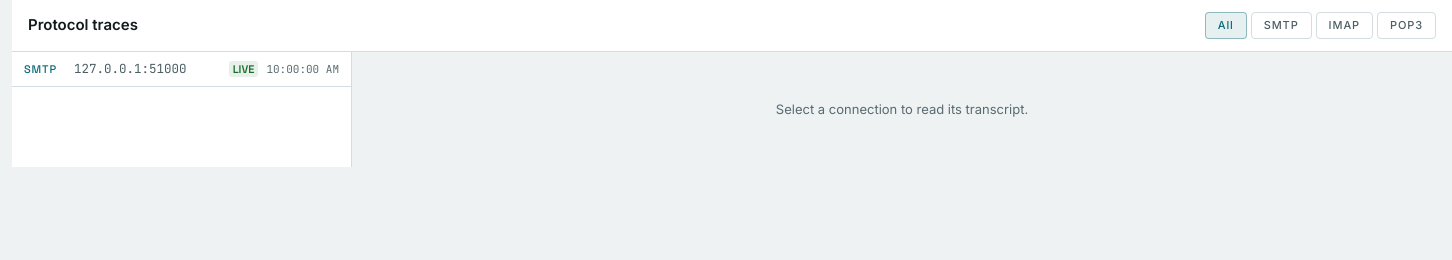
Test case: an open connection (Phase 7 Pass B) › explains in the detail pane that the transcript is still growing
Click the text "live". click: (244, 69)
box: [229,61,258,77]
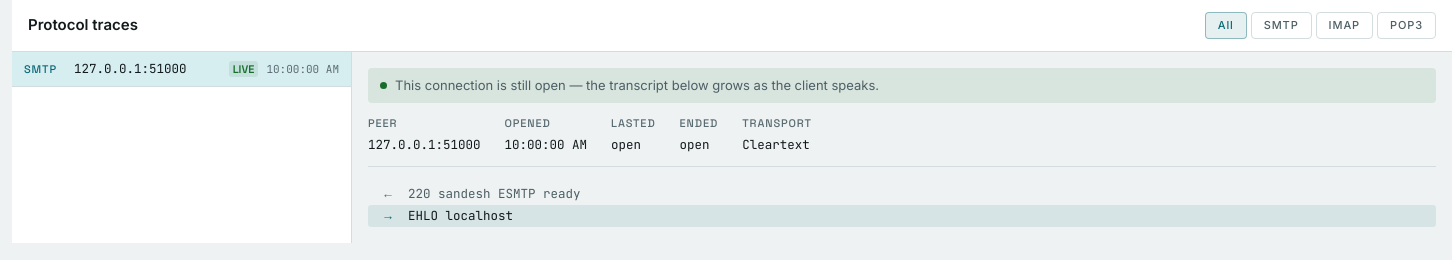
Now the text "still open" is shown, box [395,76,879,92]
